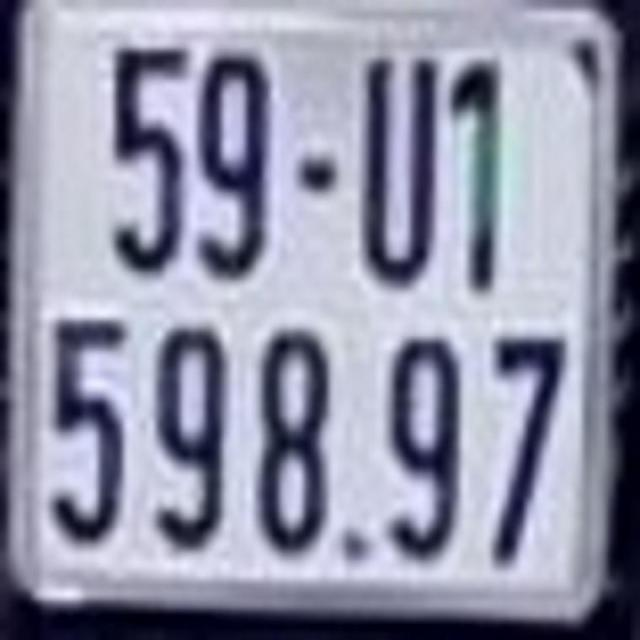1: (447, 42, 501, 293)
5: (103, 41, 192, 274), (51, 312, 120, 539)
7: (487, 329, 564, 570)
8: (253, 326, 324, 558)
9: (383, 335, 468, 563), (195, 46, 272, 280), (153, 324, 226, 548)
U: (356, 48, 440, 290)
